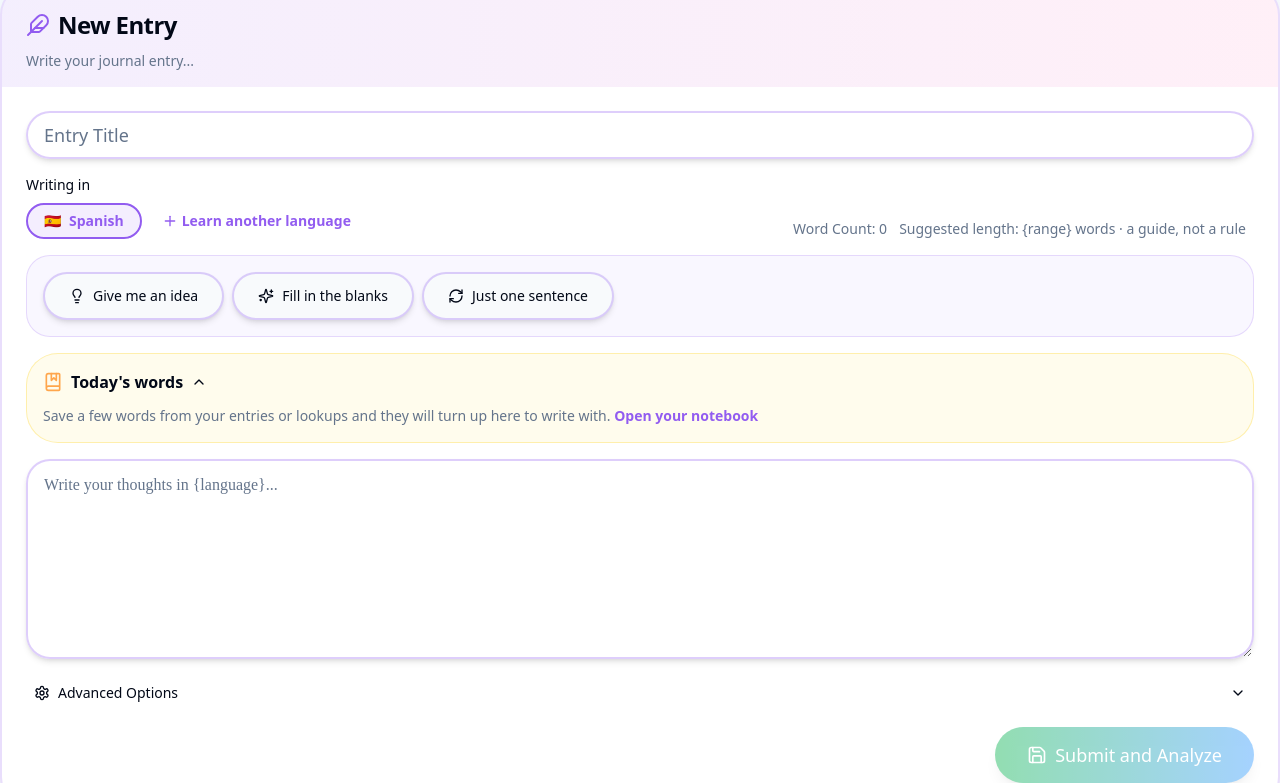
JournalEditor prompt bank › shows all three starts and submits a filled frame in three taps
Later steps or results of the test are not shown.
Expected: the element with test id "word-bank-empty" is shown, [43, 406, 758, 425]
Expected: the button "Give me an idea" is shown, [43, 272, 224, 320]
Click the button "Fill in the blanks". click: (323, 296)
box: [232, 272, 414, 320]
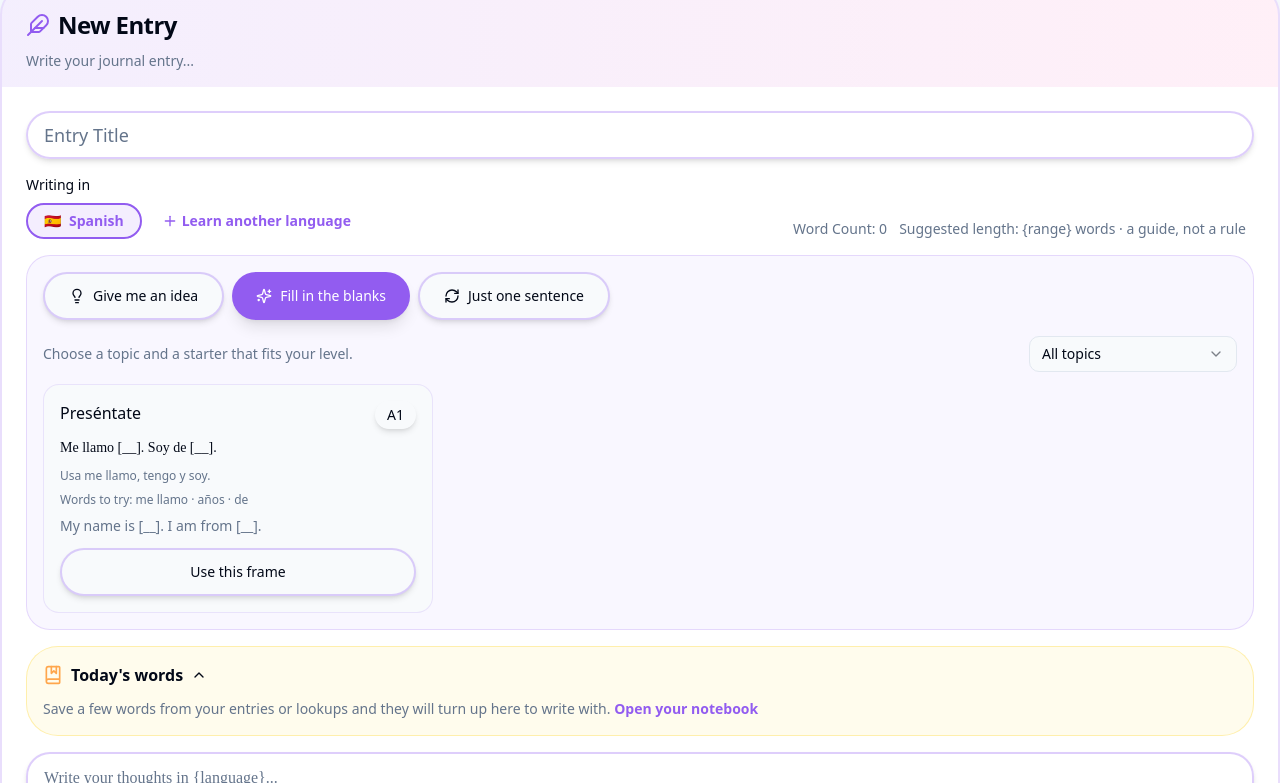
Click the button "Use this frame". click: (238, 572)
box: [60, 548, 416, 596]
(page scrolled)
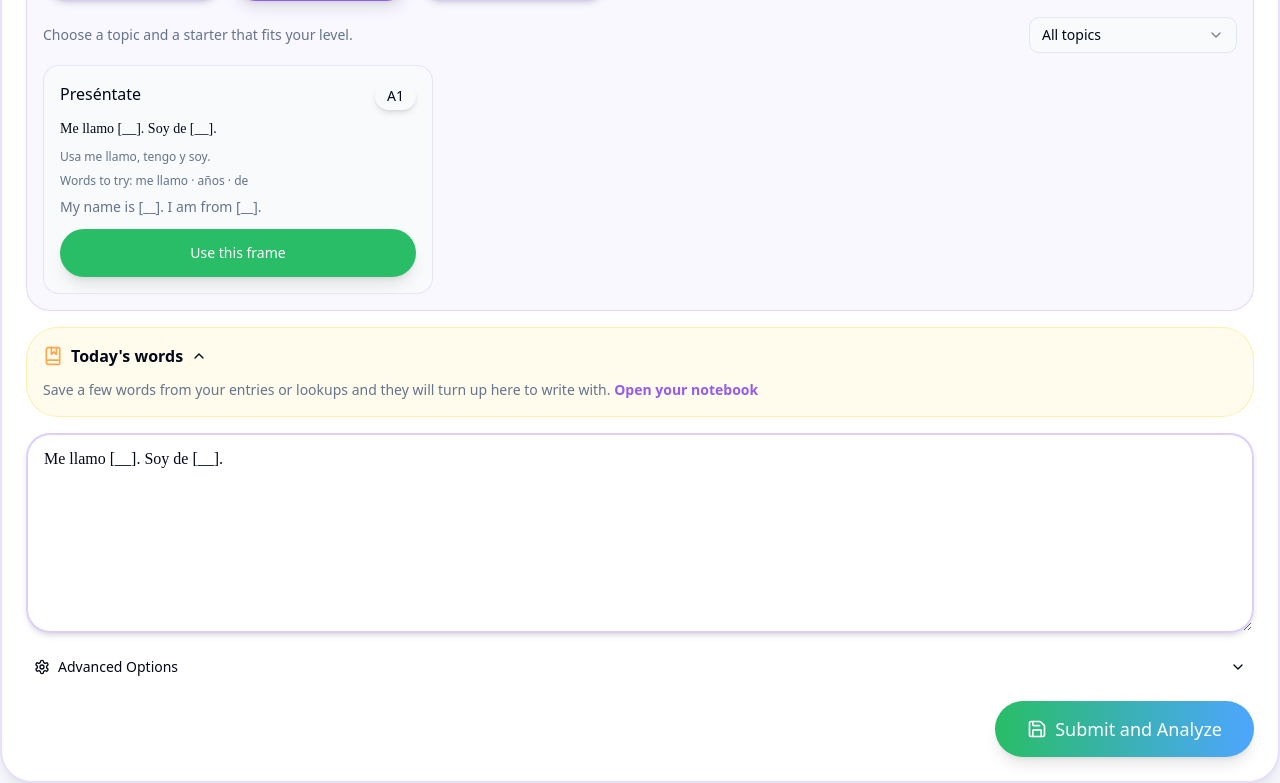
Now the text box with placeholder "Write your thoughts in {language}..." holds "Me llamo [__]. Soy de [__].", box [26, 433, 1254, 633]
